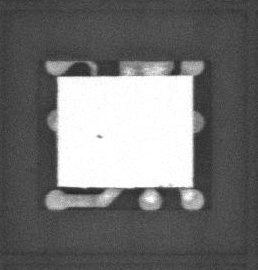DIE_INK: (90, 139, 99, 145)
